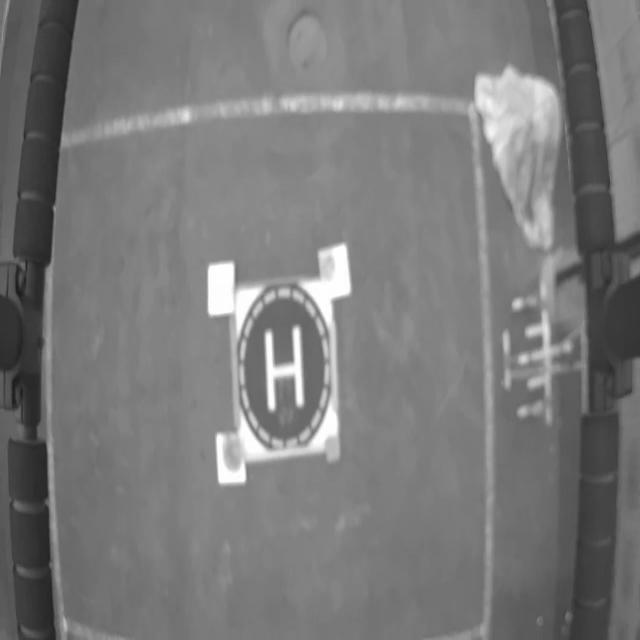Helipad: (264, 327, 305, 411)
